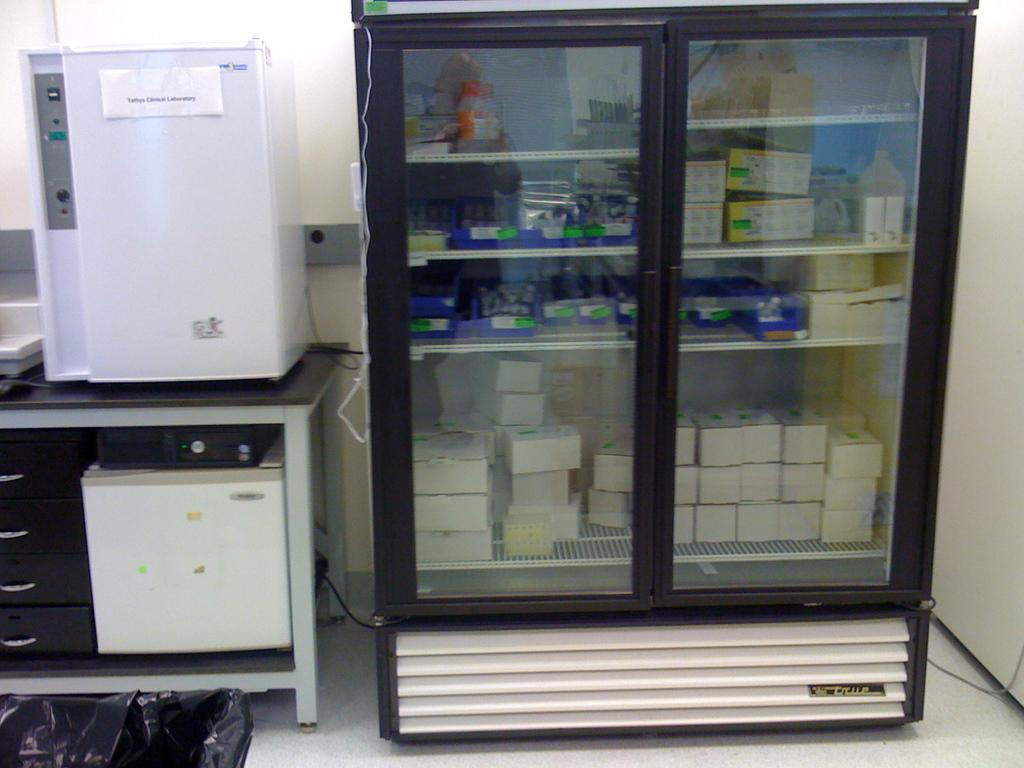cabinet_door: (0, 436, 78, 493), (6, 600, 90, 650), (3, 556, 87, 600), (1, 504, 83, 546)
handle: (642, 269, 662, 399), (667, 271, 681, 394), (0, 636, 42, 646), (0, 583, 46, 592), (0, 468, 24, 482), (0, 524, 26, 536)
